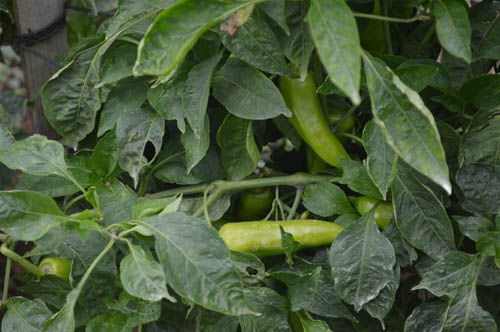ChiliPepper: (275, 71, 357, 176), (218, 218, 353, 257), (352, 192, 408, 234)
